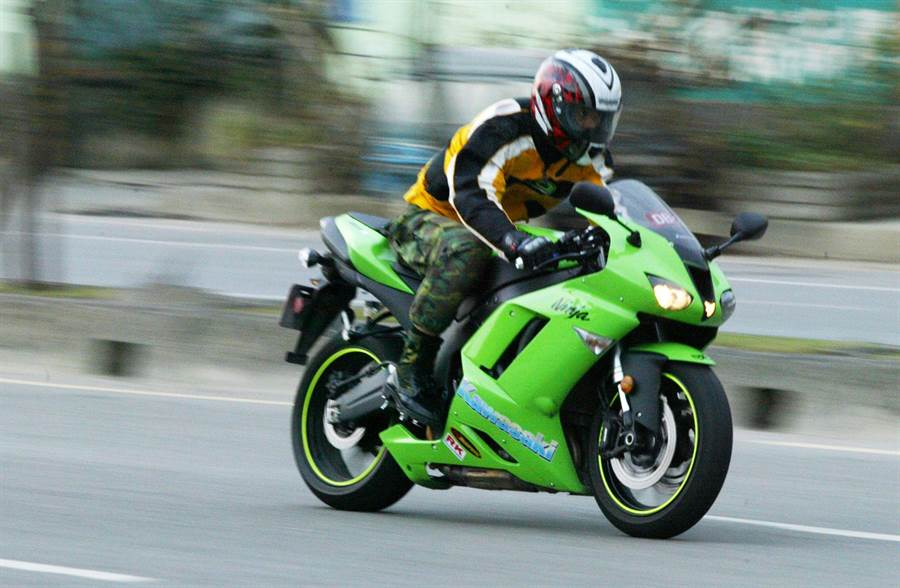helmet: (530, 62, 636, 147)
